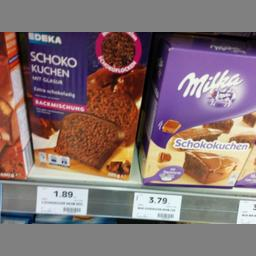cake: (20, 30, 150, 184), (145, 36, 255, 188)
